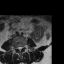CCS_normal: (19, 45, 20, 53)
LFS_normal: (22, 43, 24, 50)
LLS_normal: (20, 45, 22, 51)
RFS_stenosis: (14, 45, 17, 51)
RLS_normal: (17, 45, 19, 51)
